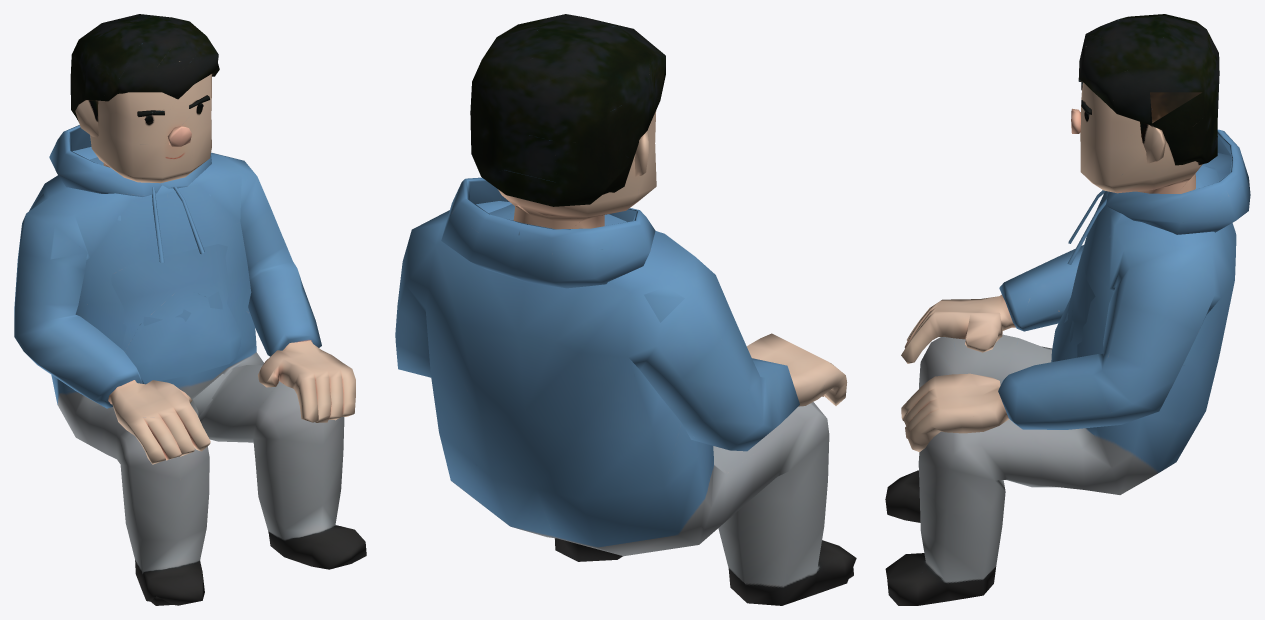
Rendered from pax_m1.glb.
3 renders of one model, left to right at view 1: azimuth 30°, elevation 25°; view 2: azimuth 150°, elevation 25°; view 3: azimuth 270°, elevation 25°, orthographic. The views are drawn at different scales.
Parts seen in each view (by area): view 1: geometry_0; view 2: geometry_0; view 3: geometry_0.
Part boxes in pixels (bbox=[...]): geometry_0: bbox=[14, 14, 366, 605]; geometry_0: bbox=[395, 14, 856, 605]; geometry_0: bbox=[885, 14, 1250, 605].
Size of the model in its own units: 0.6229 by 1 by 0.6351.
1 material, 1 textured.
